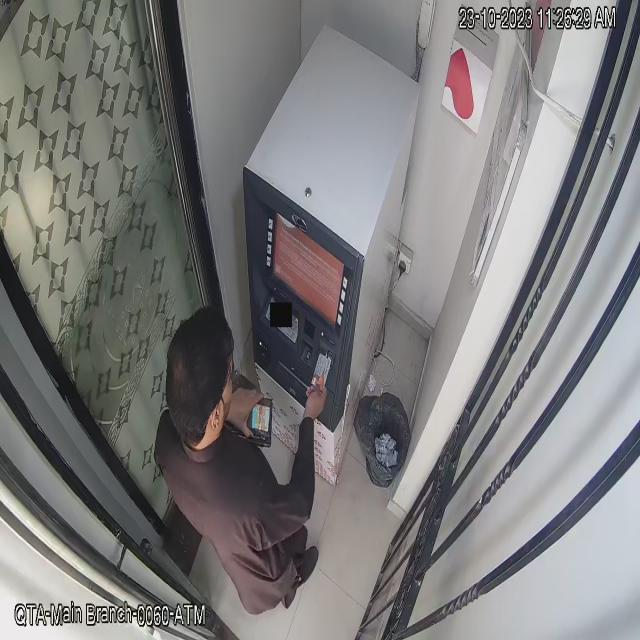atm-card: (308, 348, 334, 395)
